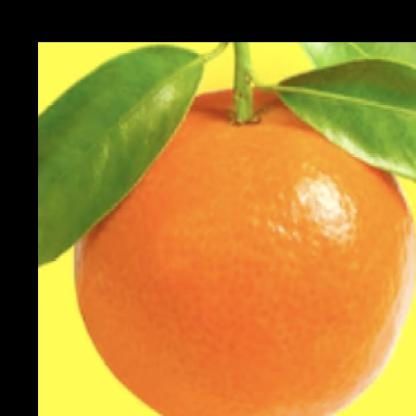fresh: (76, 70, 416, 416)
